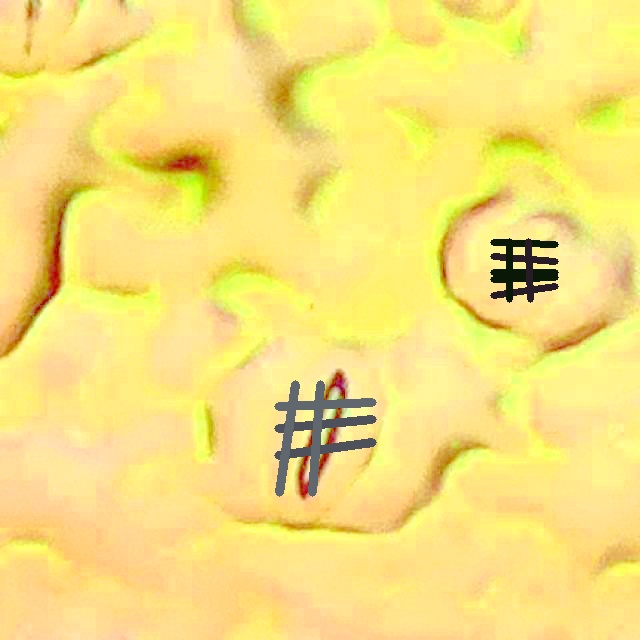close: (490, 238, 558, 302)
open: (275, 381, 375, 496)
